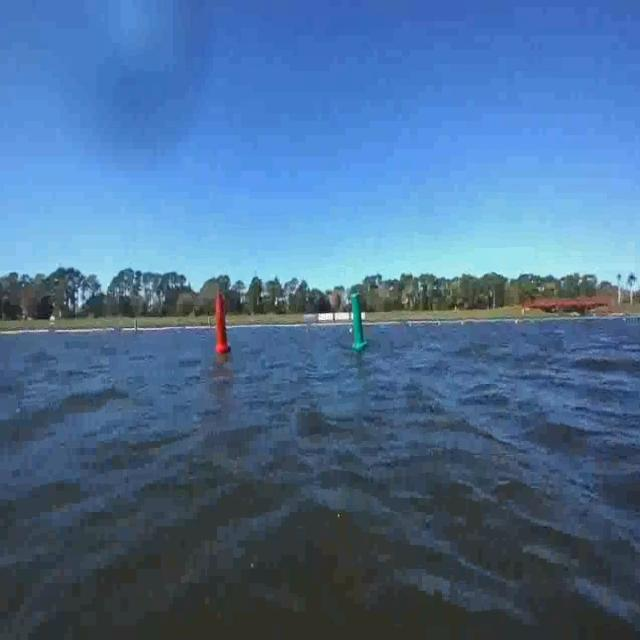green-column-buoy: (351, 295, 368, 353)
red-column-buoy: (213, 290, 230, 354)
